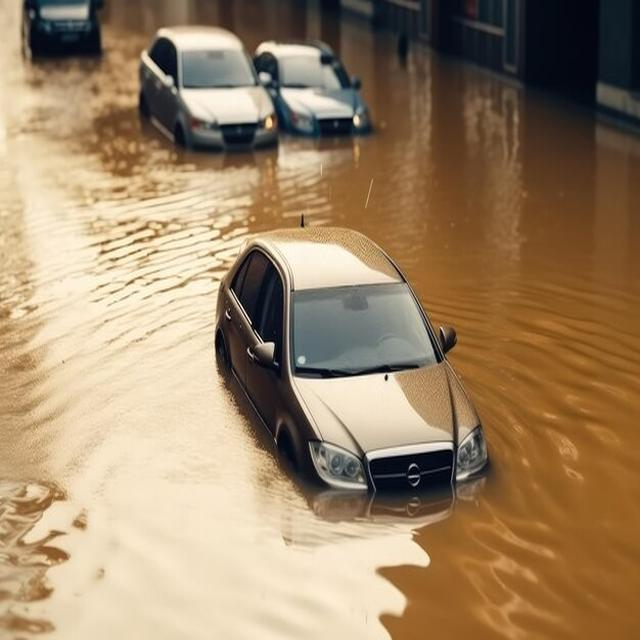Car-RiskLevel3: (210, 205, 503, 509), (137, 19, 273, 153), (255, 30, 408, 148), (28, 0, 109, 78)
